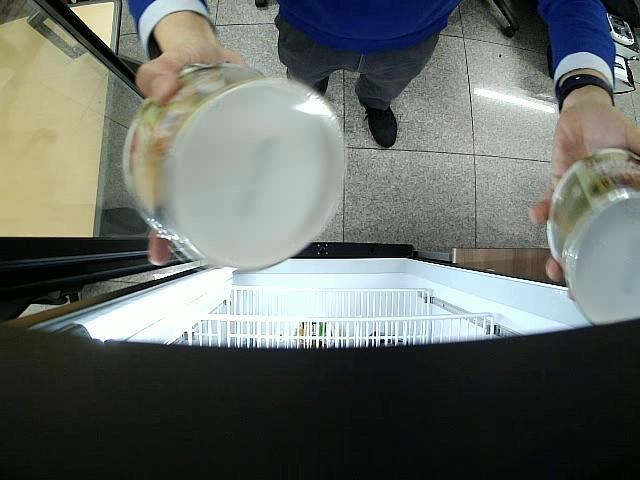03_chapagetti_L: (123, 63, 345, 268), (546, 146, 639, 322)
